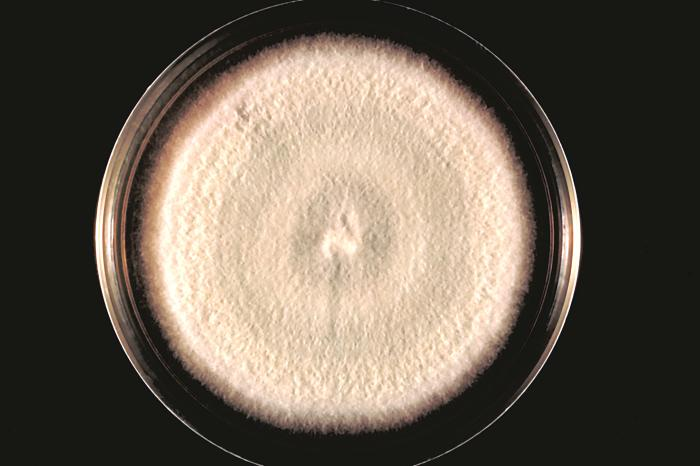Acremonium: (184, 98, 481, 367)
